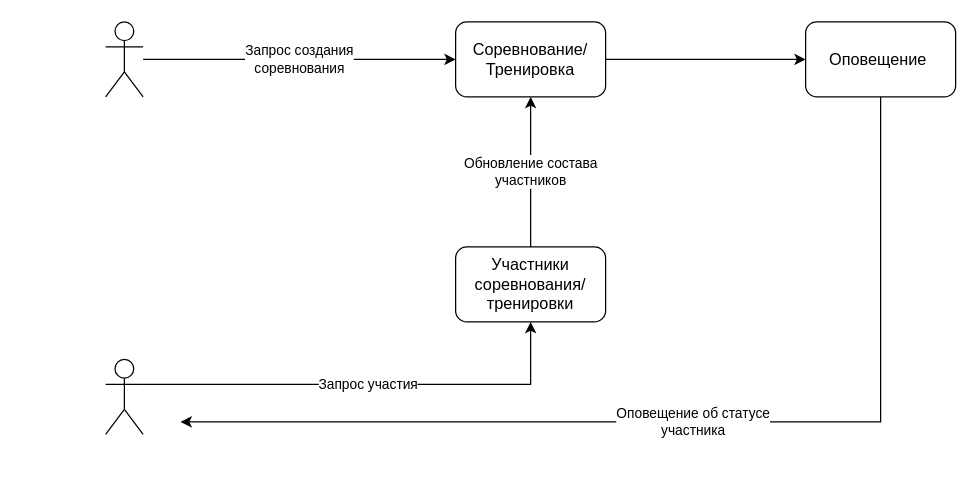
Image size: 978x485. Some labels were removed from this diagram. Each missing label, with the box of its shape:
Организатор соревнования: (104, 21, 143, 97)
Пользователь: (104, 358, 143, 434)
